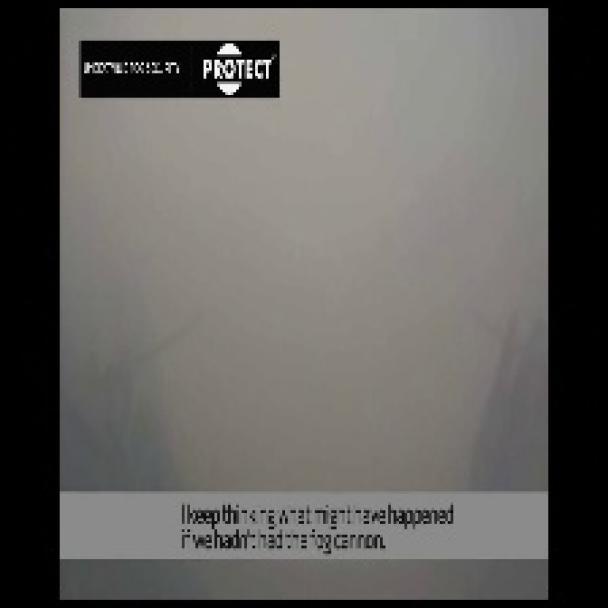smoke: (60, 11, 549, 496)
